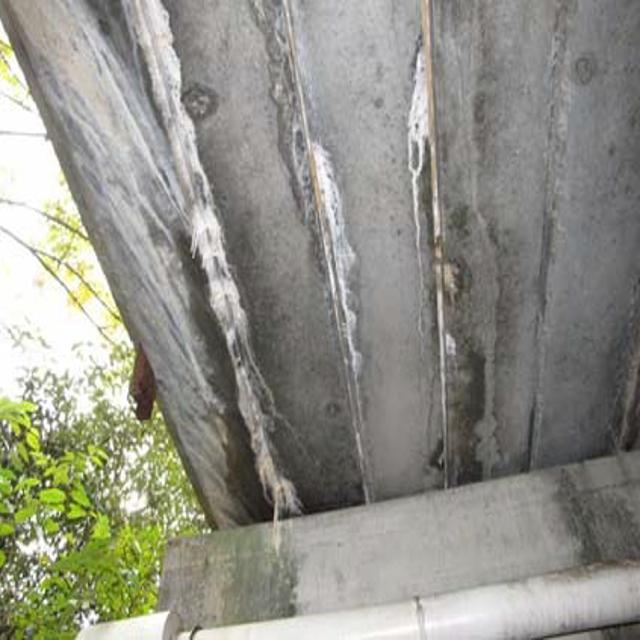freelime: (139, 17, 287, 494), (306, 142, 368, 407), (400, 40, 449, 197)
